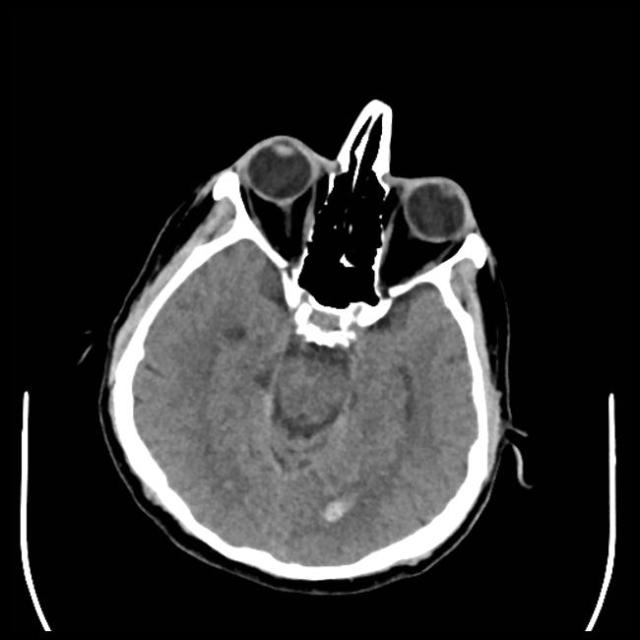lesion: (93, 97, 530, 592)
